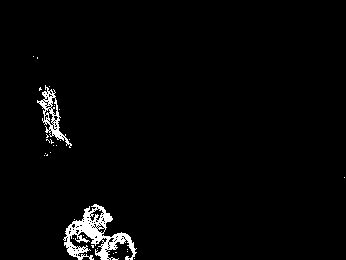person: (65, 200, 108, 258), (37, 86, 71, 157)
